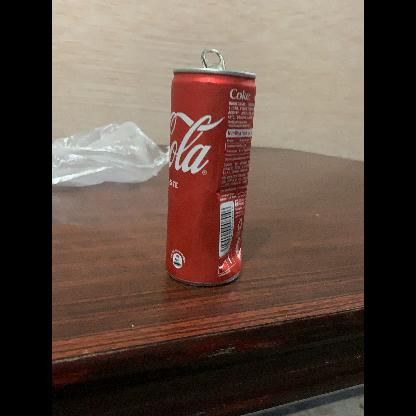Dent_Can: (211, 236, 241, 274), (210, 179, 246, 208)
Lid_Open: (195, 42, 230, 74)
Tin_Can: (162, 44, 258, 292)
